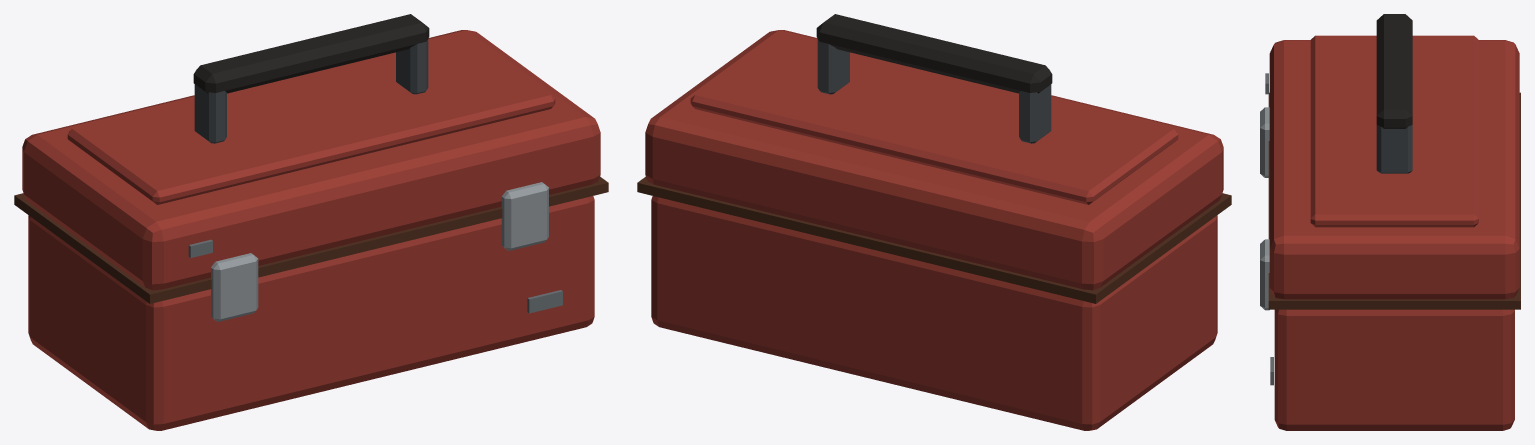
File: toolbox_metallicheskiy_idle.glb
3 views of the same model, side by side, from view 1: azimuth 30°, elevation 25°; view 2: azimuth 150°, elevation 25°; view 3: azimuth 270°, elevation 25° (orthographic). The views are drawn at different scales.
Visible parts, largest first — view 1: toolbox_metallicheskiy_idle; view 2: toolbox_metallicheskiy_idle; view 3: toolbox_metallicheskiy_idle.
Boxes of the visible parts, box(x1,y1,x2,y2) form: toolbox_metallicheskiy_idle: box(14, 14, 608, 430); toolbox_metallicheskiy_idle: box(637, 14, 1231, 430); toolbox_metallicheskiy_idle: box(1260, 14, 1520, 430).
Size of the model in its own units: 0.41 by 0.25 by 0.217.
1 material, 1 textured.
